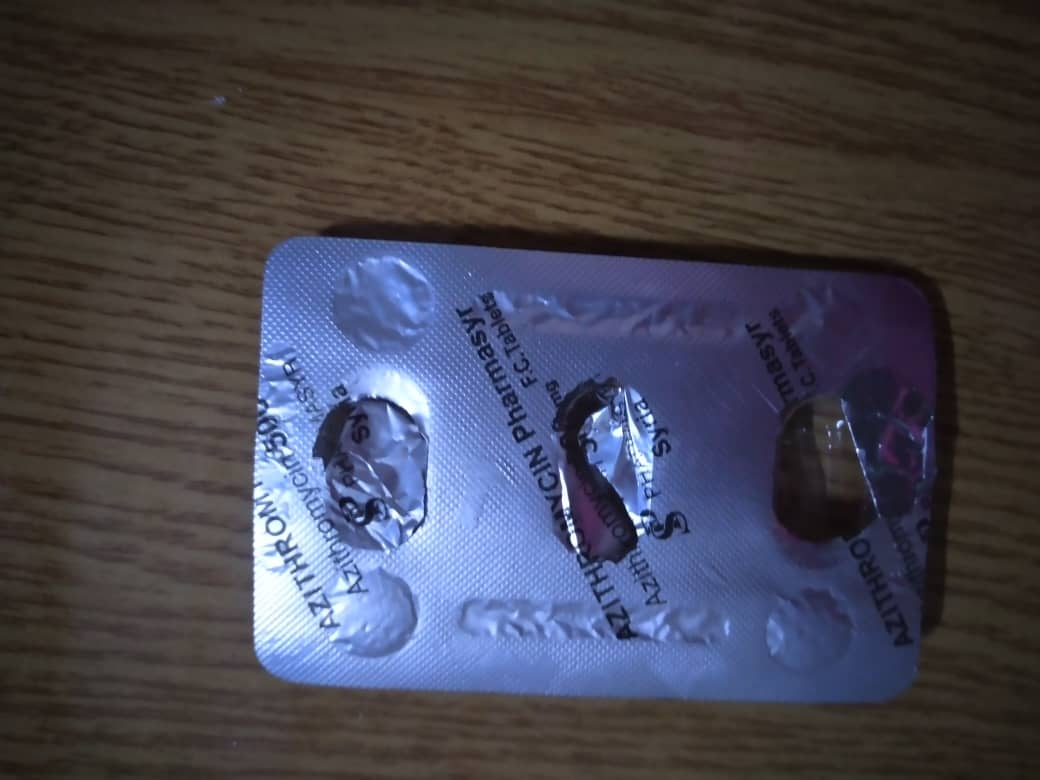Medicine: (232, 212, 954, 734)
